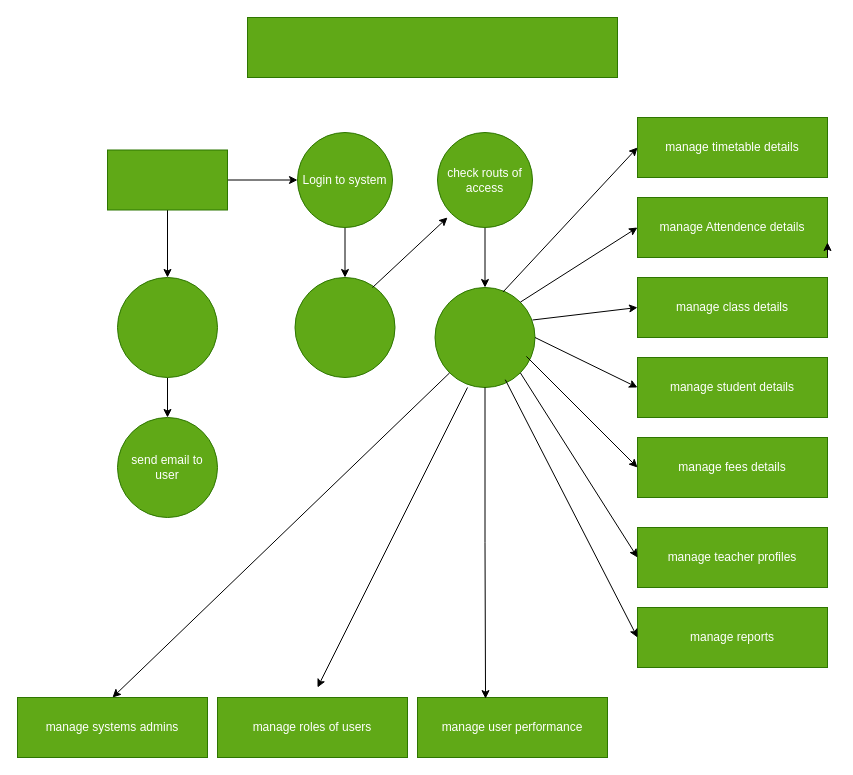
This 853x775 diagram has some shape labels left out. The centre of each missing label's shape, as x and y in pixels:
"Admin" goes at pixel 167 179.
"check credentials" goes at pixel 344 327.
"Forgot password" goes at pixel 167 327.
"manager modules" goes at pixel 484 337.
"Student Information System" goes at pixel 432 47.
